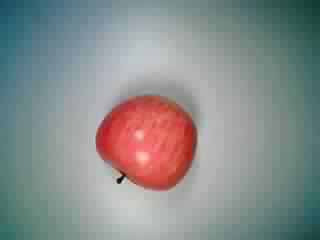apple: (95, 92, 199, 196)
